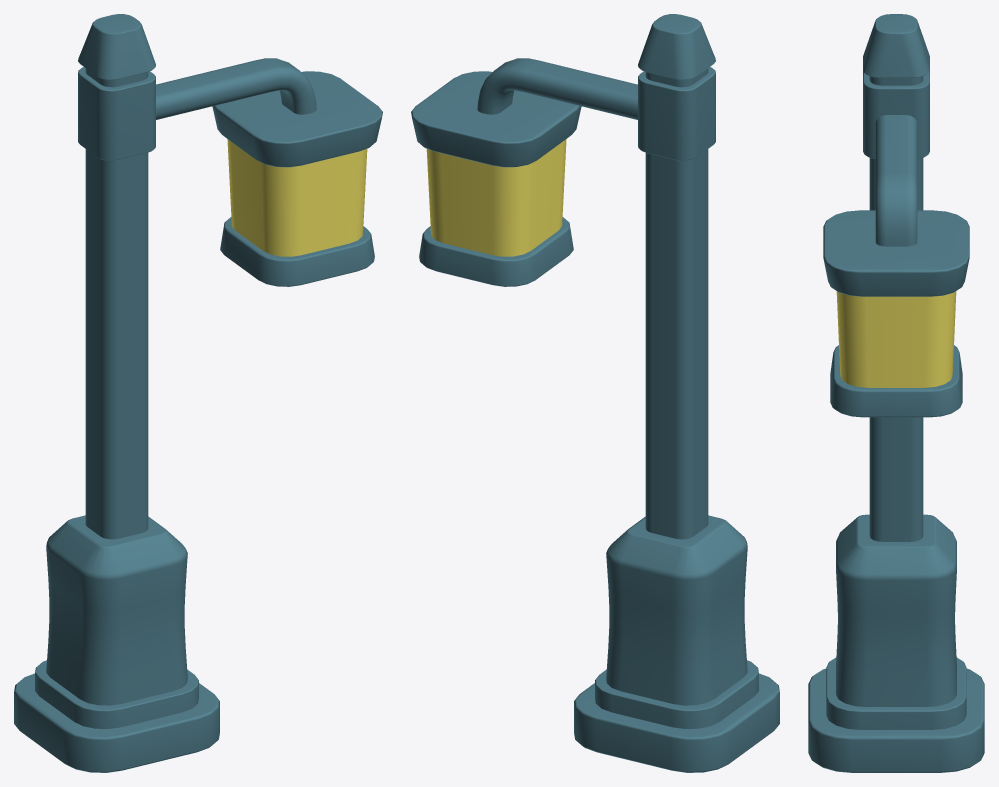
File: Town_15_Street_Lamp_1.glb
3 views of the same model, side by side, from view 1: azimuth 30°, elevation 25°; view 2: azimuth 150°, elevation 25°; view 3: azimuth 270°, elevation 25° (orthographic).
Parts seen in each view (by area): view 1: Town_15_Street_Lamp_1; view 2: Town_15_Street_Lamp_1; view 3: Town_15_Street_Lamp_1.
Boxes of the visible parts, bbox=[...] form: Town_15_Street_Lamp_1: bbox=[14, 14, 382, 772]; Town_15_Street_Lamp_1: bbox=[411, 14, 779, 772]; Town_15_Street_Lamp_1: bbox=[808, 14, 984, 772].
Size of the model in its own units: 1.63 by 3.45 by 0.7732.
1 material, 1 textured.
